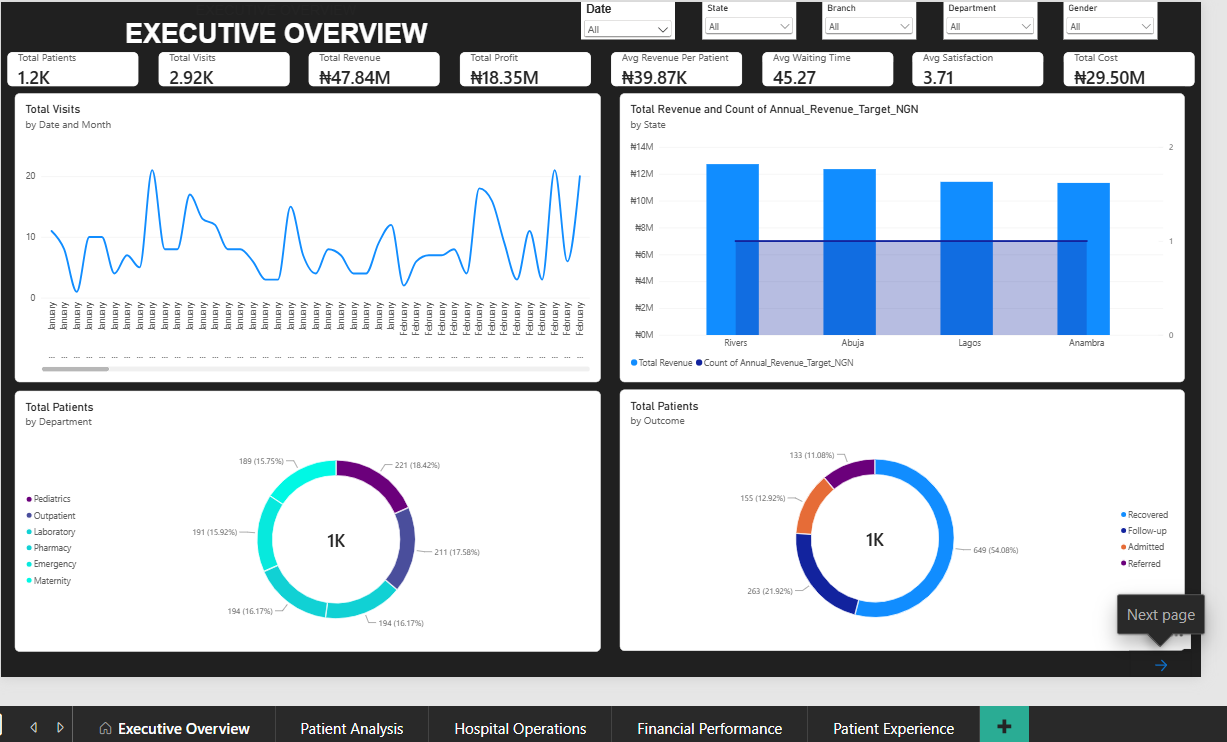

The dashboard page shown, as its layout file describes it:
{"tool":"powerbi","page":{"name":"Executive Overview","canvas":[1920,1080],"ordinal":0},"visuals":[{"type":"cardVisual","fields":{"Data":["_Measures.Total Patients"]},"box":[10,80,210,55],"z":0},{"type":"cardVisual","fields":{"Data":["_Measures.Total Visits"]},"box":[251.4,80,210,55.7],"z":1000},{"type":"cardVisual","fields":{"Data":["_Measures.Total Revenue"]},"box":[492.9,80,210,55.7],"z":2000},{"type":"cardVisual","fields":{"Data":["_Measures.Total Cost"]},"box":[1700,80,210,55],"z":3000},{"type":"cardVisual","fields":{"Data":["_Measures.Avg Waiting Time"]},"box":[1217.1,80,210,55],"z":4000},{"type":"cardVisual","fields":{"Data":["_Measures.Avg Satisfaction"]},"box":[1458.6,80,210,55],"z":5000},{"type":"cardVisual","fields":{"Data":["_Measures.Total Profit"]},"box":[734.3,80,210,55],"z":6000},{"type":"cardVisual","fields":{"Data":["_Measures.Avg Revenue Per Patient"]},"box":[975.7,80,210,55.7],"z":7000},{"type":"lineChart","fields":{"Category":["Dim_Date.Date","Dim_Date.Month"],"Y":["_Measures.Total Visits"]},"box":[22.5,146.2,937.5,462.5],"z":8000},{"type":"slicer","fields":{"Values":["Dim_Date.Date"]},"box":[928.3,0,150,60],"z":9000},{"type":"slicer","fields":{"Values":["Dim_State_Targets.State"]},"box":[1121.2,0,150,60],"z":10000},{"type":"slicer","fields":{"Values":["Fact_Visits.Branch"]},"box":[1314.2,0,150,60],"z":11000},{"type":"slicer","fields":{"Values":["Fact_Visits.Department"]},"box":[1507.1,0,150,60],"z":12000},{"type":"slicer","fields":{"Values":["Fact_Visits.Gender"]},"box":[1700,0,150,60],"z":13000},{"type":"textbox","title":"EXECUTIVE OVERVIEW","box":[40,0,800,136],"z":14000},{"type":"donutChart","fields":{"Category":["Fact_Visits.Department"],"Y":["_Measures.Total Patients"]},"box":[22,622,937.5,417.5],"z":15000},{"type":"lineStackedColumnComboChart","fields":{"Category":["Dim_State_Targets.State"],"Y":["_Measures.Total Revenue"],"Y2":["CountNonNull(Dim_State_Targets.Annual_Revenue_Target_NGN)"]},"box":[990,146,904,462],"z":16000},{"type":"donutChart","fields":{"Category":["Fact_Visits.Outcome"],"Y":["_Measures.Total Patients"]},"box":[990,620,904,418],"z":17000},{"type":"actionButton","box":[1805,1037.5,100,42.5],"z":17001}]}

Visuals, with their boxes on the page's 1920x1080 design canvas (x1, y1, x2, y2). These are canvas units, not pixel positions in the 1227x742 screenshot, which may show the page scaled, cropped or inside an application window:
cardVisual - _Measures.Total Patients: 10, 80, 220, 135
cardVisual - _Measures.Total Visits: 251, 80, 461, 136
cardVisual - _Measures.Total Revenue: 493, 80, 703, 136
cardVisual - _Measures.Total Cost: 1700, 80, 1910, 135
cardVisual - _Measures.Avg Waiting Time: 1217, 80, 1427, 135
cardVisual - _Measures.Avg Satisfaction: 1459, 80, 1669, 135
cardVisual - _Measures.Total Profit: 734, 80, 944, 135
cardVisual - _Measures.Avg Revenue Per Patient: 976, 80, 1186, 136
lineChart - Dim_Date.Date x Dim_Date.Month: 22, 146, 960, 609
slicer - Dim_Date.Date: 928, 0, 1078, 60
slicer - Dim_State_Targets.State: 1121, 0, 1271, 60
slicer - Fact_Visits.Branch: 1314, 0, 1464, 60
slicer - Fact_Visits.Department: 1507, 0, 1657, 60
slicer - Fact_Visits.Gender: 1700, 0, 1850, 60
"EXECUTIVE OVERVIEW" textbox: 40, 0, 840, 136
donutChart - Fact_Visits.Department x _Measures.Total Patients: 22, 622, 960, 1040
lineStackedColumnComboChart - Dim_State_Targets.State x _Measures.Total Revenue: 990, 146, 1894, 608
donutChart - Fact_Visits.Outcome x _Measures.Total Patients: 990, 620, 1894, 1038
actionButton: 1805, 1038, 1905, 1080
